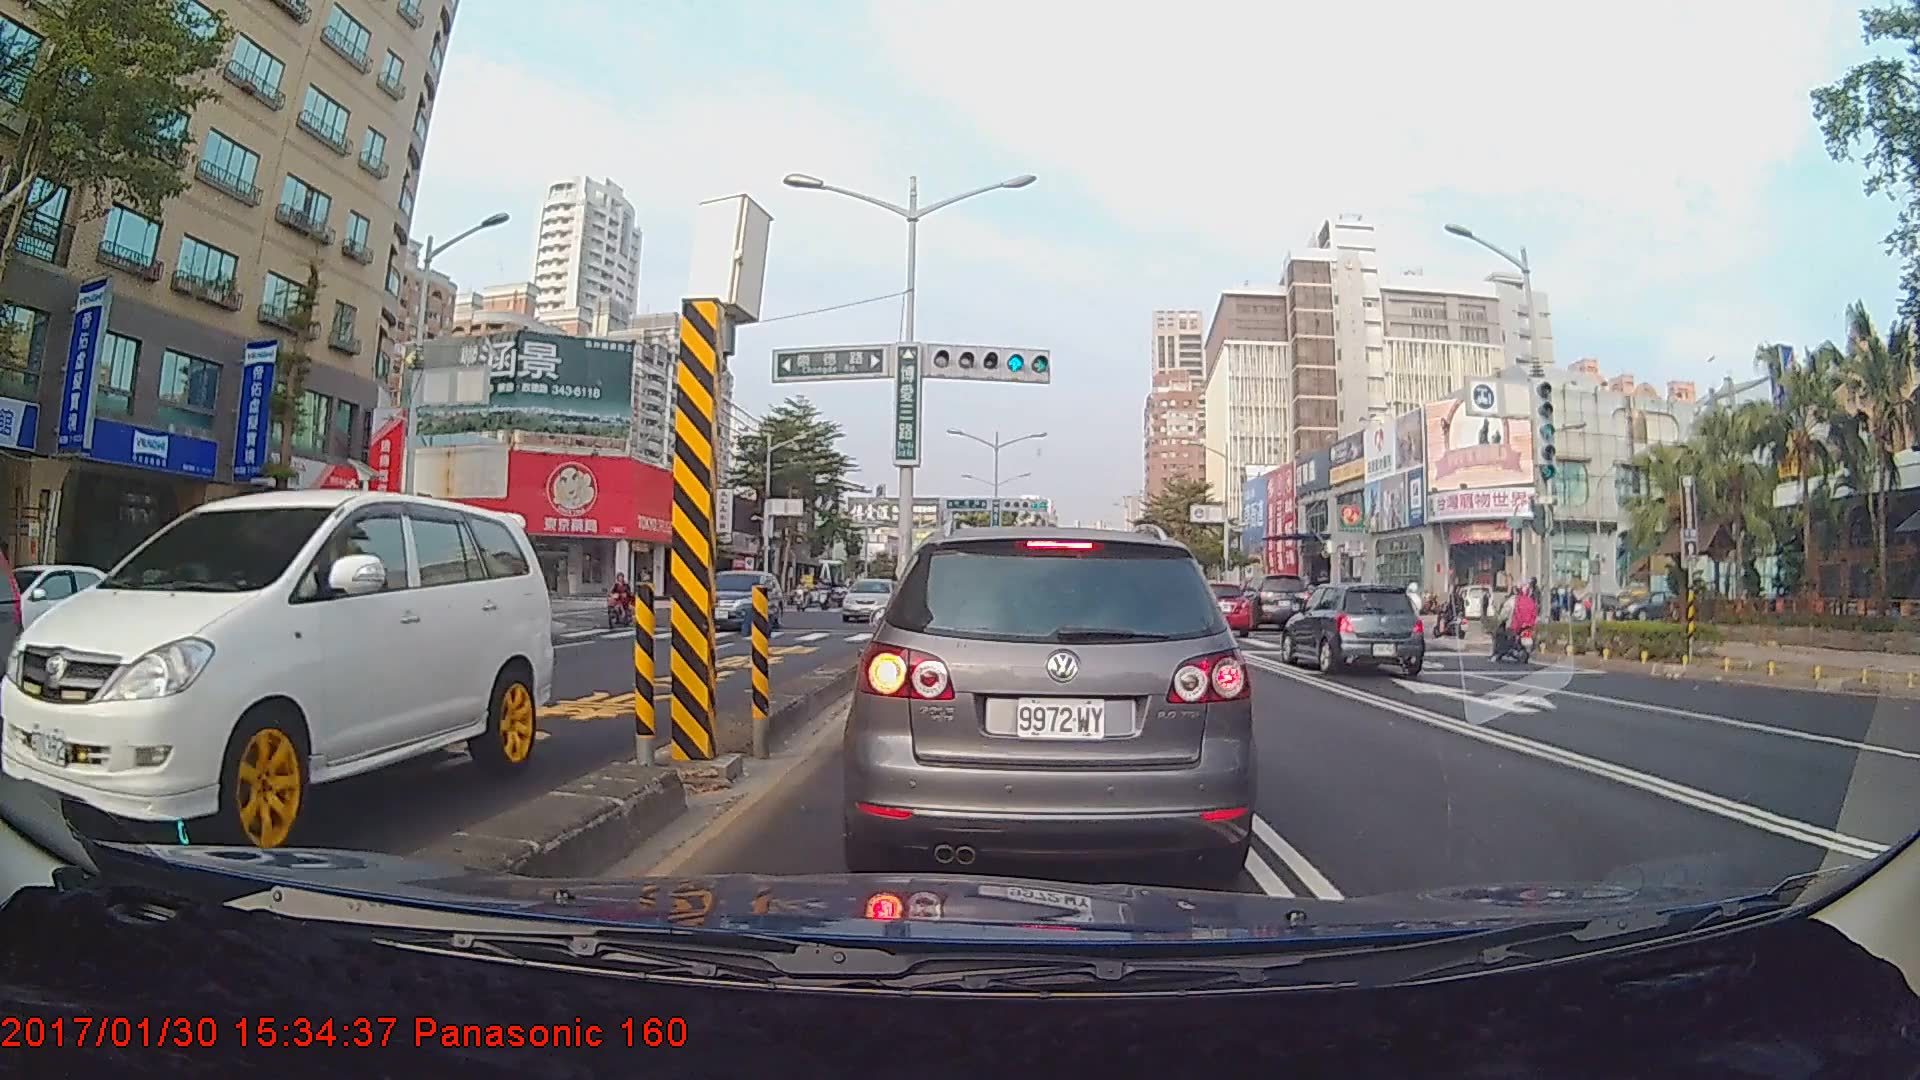rider: (1485, 582, 1548, 668), (1436, 582, 1473, 646), (602, 566, 636, 635)
vehicle: (0, 488, 553, 871), (853, 520, 1247, 879), (0, 561, 158, 671), (1278, 582, 1425, 675), (688, 569, 781, 632), (1234, 571, 1308, 631), (1181, 581, 1252, 638), (839, 577, 898, 621)
